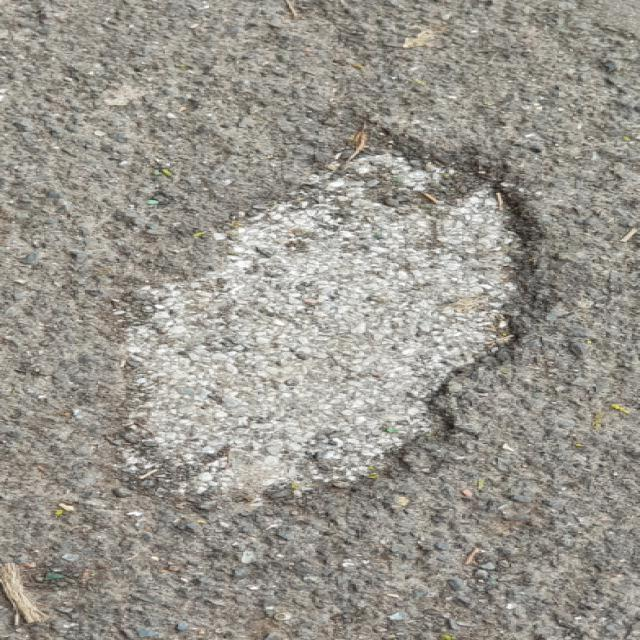Pothole: (98, 117, 565, 513)
